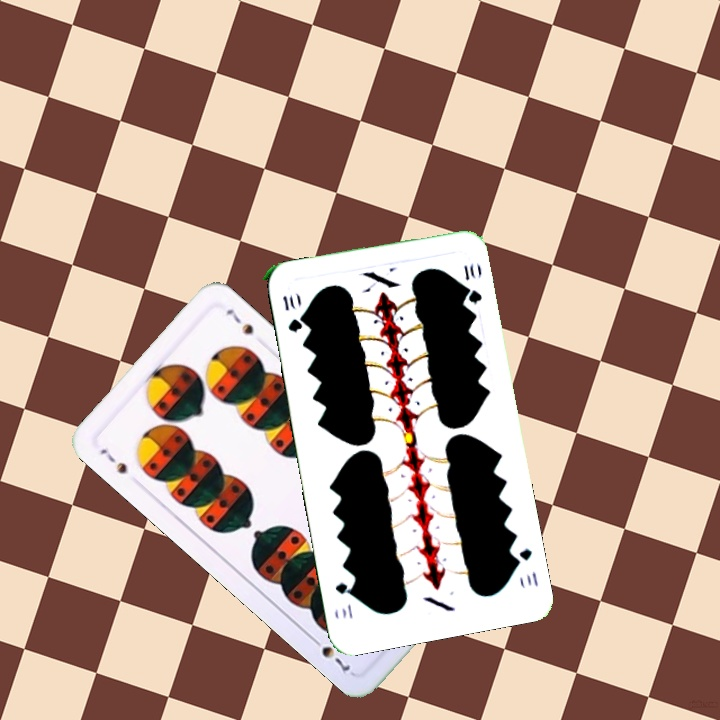G10: (509, 544, 540, 589), (278, 290, 305, 335)
S7: (95, 444, 130, 477)
